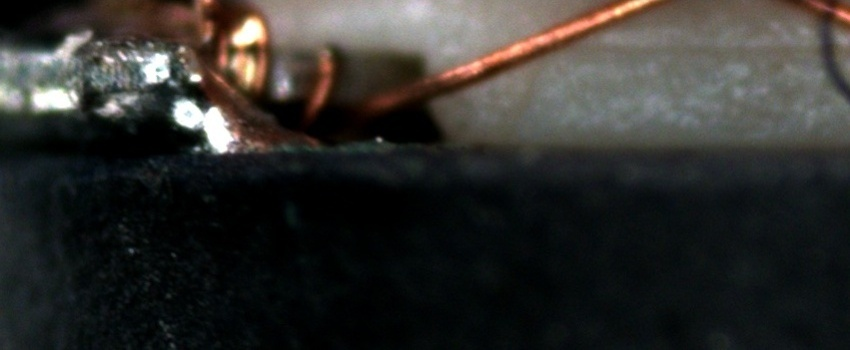DL: (568, 18, 849, 82)
TE: (180, 3, 347, 152)
